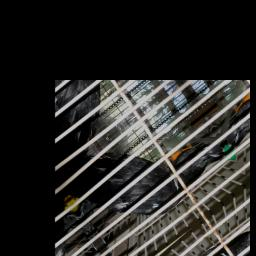Crow: (56, 82, 232, 256)
